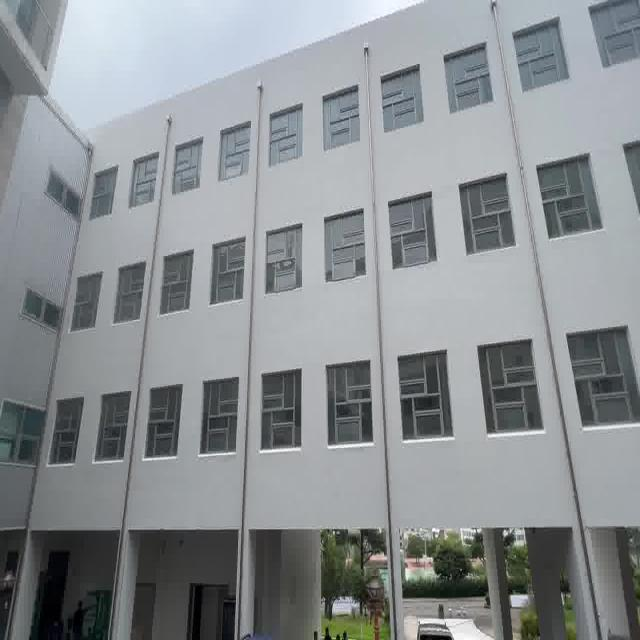building: (35, 65, 611, 491)
